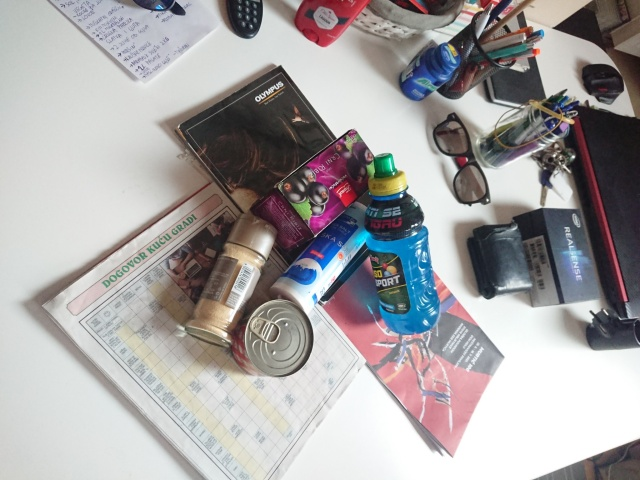Franck Black Currant Tea 60g: (247, 126, 389, 257)
Kotanyi Garlic Granules 70g: (181, 211, 281, 350)
Podravka Luncheon Meat 150g: (226, 295, 316, 380)
Solana Pag Fine Sea Salt 250g: (268, 199, 386, 317)
Vindi Iso Sport Forest Strawberries 500mL: (361, 151, 444, 337)
